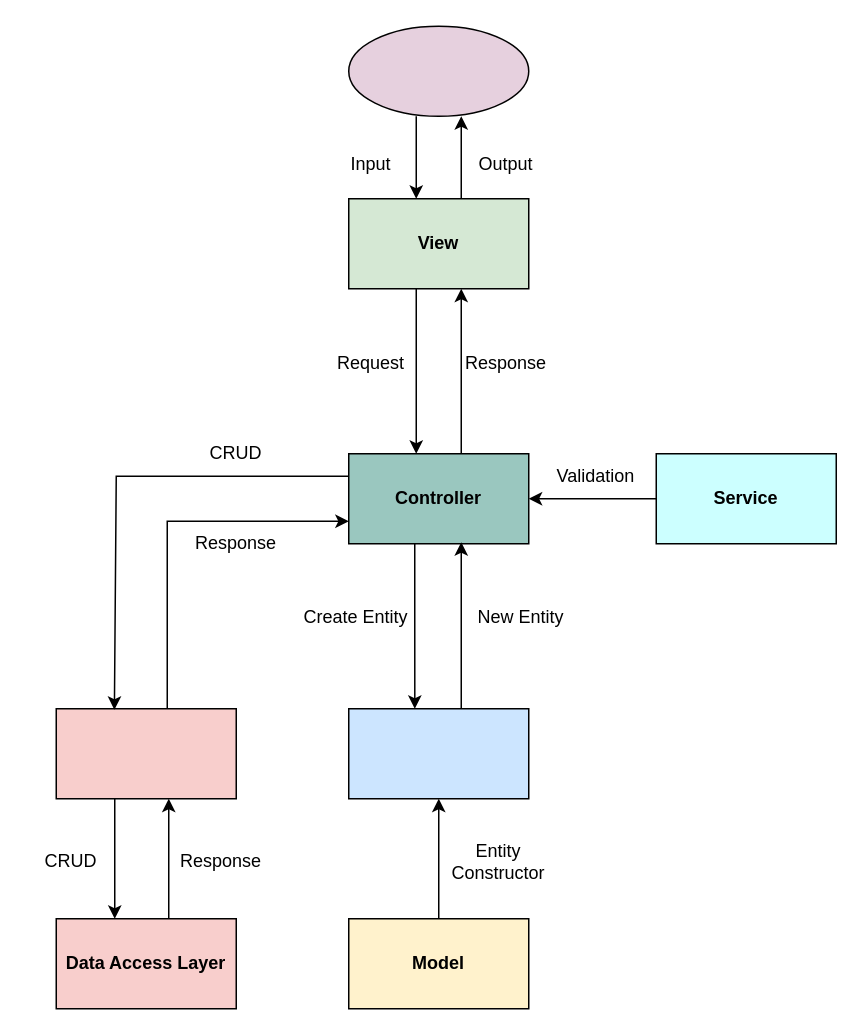
The diagram is 863 pixels wide and 1035 high, and some of its shapes have lost their labels. The box of each missing label's shape, as (x1, y1, x2, y2) in pixels:
Factory: (347, 707, 529, 799)
Repository: (55, 707, 236, 799)
User: (347, 25, 529, 116)
